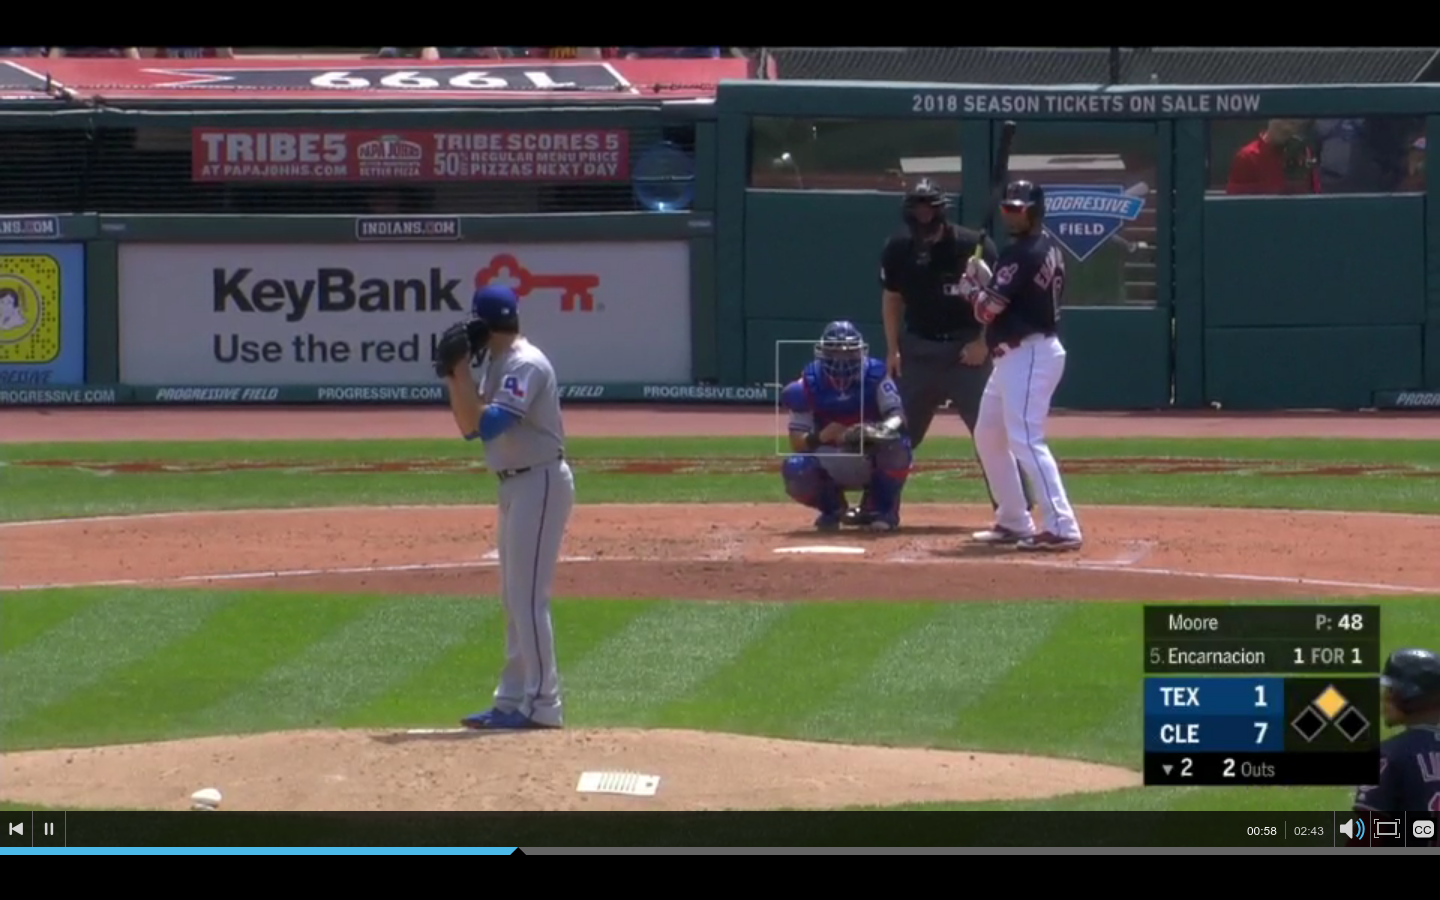baseball bat: (959, 117, 1016, 300)
baseball player: (428, 280, 587, 743), (959, 176, 1096, 556), (776, 323, 919, 539)
referee: (858, 177, 1036, 540)
